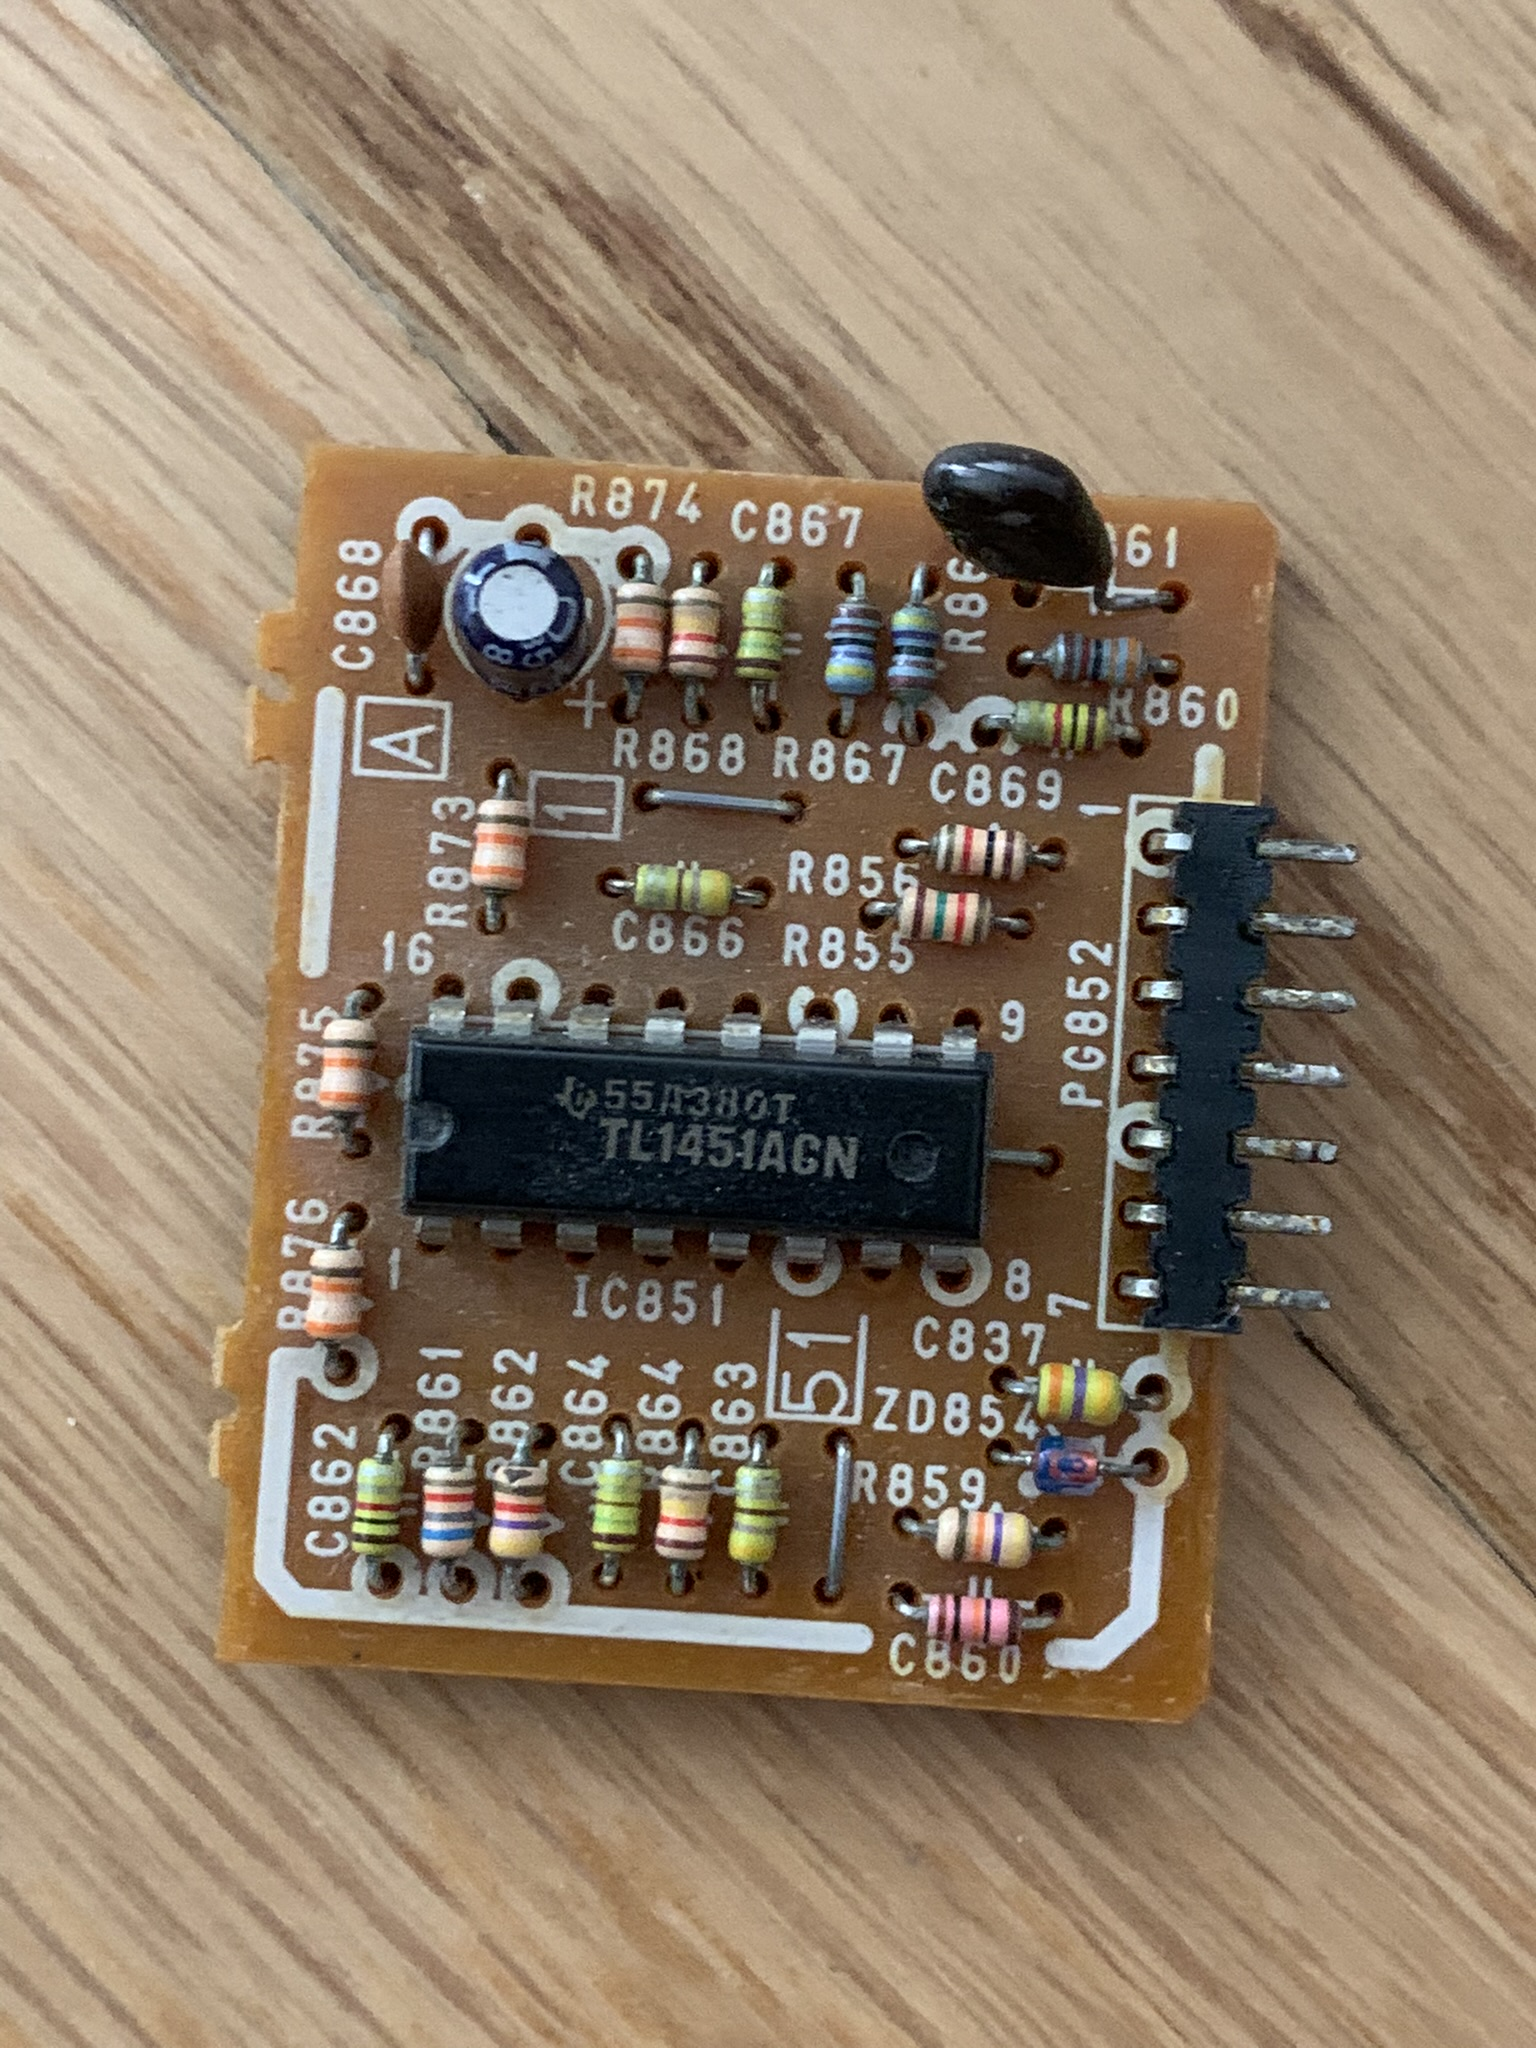capacitor_thd_c: (373, 539, 447, 655), (1031, 1359, 1129, 1429), (344, 1455, 408, 1559), (1007, 697, 1113, 755), (925, 1590, 1025, 1650), (632, 864, 736, 918), (734, 585, 789, 684), (728, 1467, 783, 1564)
capacitor_thd_el: (449, 542, 589, 693)
diode_thd_z: (1029, 1442, 1108, 1495)
ic_thd: (402, 1014, 991, 1263)
resistor_thd: (468, 789, 534, 898), (929, 1505, 1037, 1569), (928, 821, 1033, 887), (416, 1461, 482, 1564), (1041, 631, 1154, 690), (891, 882, 992, 947), (486, 1461, 549, 1564), (303, 1243, 366, 1347), (607, 581, 670, 676), (824, 593, 881, 697), (666, 585, 724, 685), (315, 1018, 373, 1118), (652, 1464, 712, 1558), (886, 606, 941, 700)
